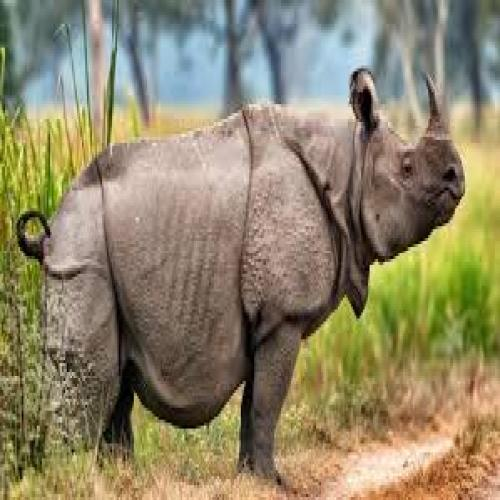rhino-endangered: (37, 70, 464, 462)
